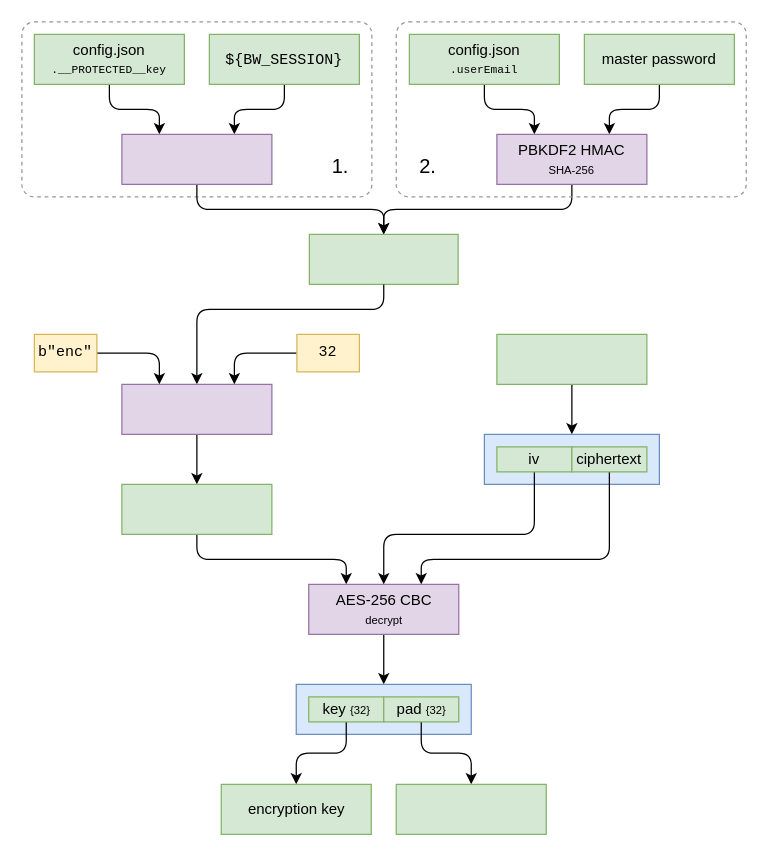
The diagram is 769 pixels wide and 856 high, and some of its shapes have lost their labels. Here are the shapes that lost their labels. From the top down, the centre of each, then its label:
the point at 196,158: AES-256 CBC
the point at 383,258: source key {32} random
the point at 571,358: config.json .encKey
the point at 196,408: HKDF Expand SHA-256
the point at 196,508: intermediate encryption key
the point at 470,808: mac key
